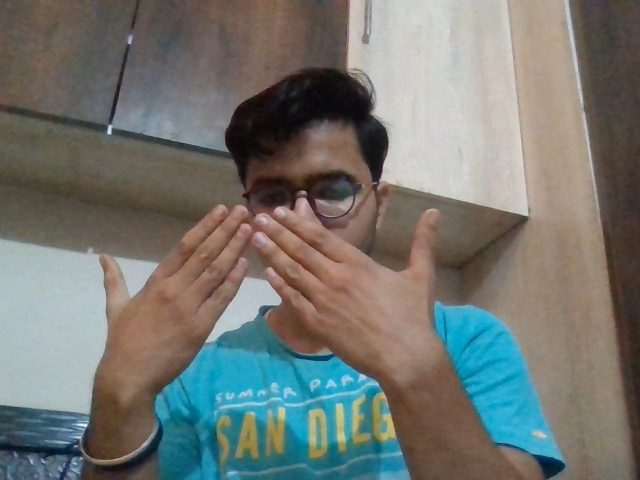thankyou: (92, 173, 451, 407)
